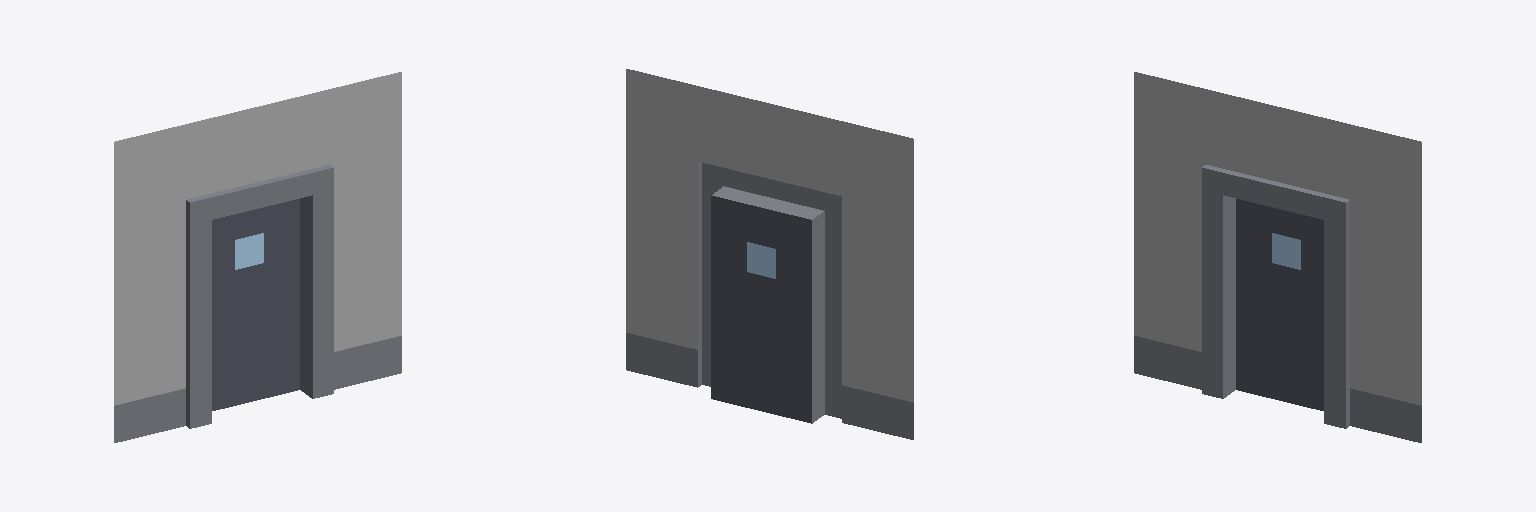
Rendered from wall_doorA.obj.
3 views of the same model, side by side, from view 1: azimuth 30°, elevation 25°; view 2: azimuth 150°, elevation 25°; view 3: azimuth 330°, elevation 25° (orthographic).
Visible parts, largest first — view 1: wall_doorA; view 2: wall_doorA; view 3: wall_doorA.
Part boxes in pixels (bbox=[...]): wall_doorA: bbox=[114, 72, 401, 442]; wall_doorA: bbox=[626, 69, 913, 439]; wall_doorA: bbox=[1134, 72, 1421, 442].
Bounding box in the file's own units: 0.4 × 0.4 × 0.03.